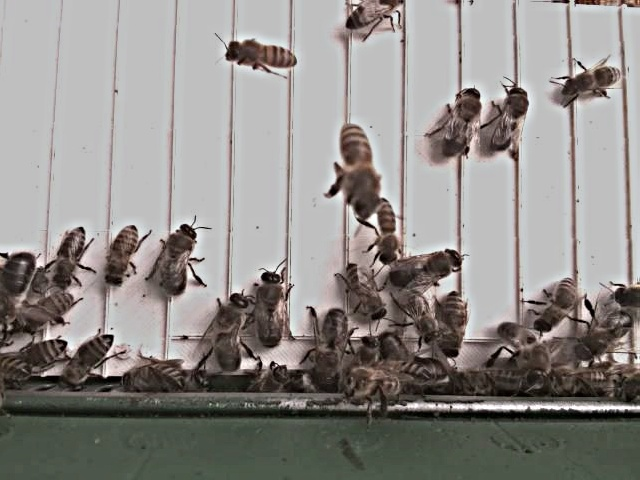Drone: (385, 244, 468, 291), (570, 305, 637, 363), (312, 304, 353, 387), (440, 83, 484, 157), (158, 220, 200, 297), (214, 289, 252, 372), (490, 80, 531, 152), (254, 266, 288, 346)
Worker: (339, 121, 381, 212), (66, 331, 115, 386), (103, 221, 143, 288), (536, 271, 579, 331), (10, 334, 72, 375), (347, 260, 390, 319), (223, 38, 300, 70), (401, 285, 441, 343), (54, 222, 89, 288), (25, 289, 77, 332), (440, 289, 471, 356), (343, 0, 410, 31), (371, 194, 399, 263), (564, 63, 624, 95)
